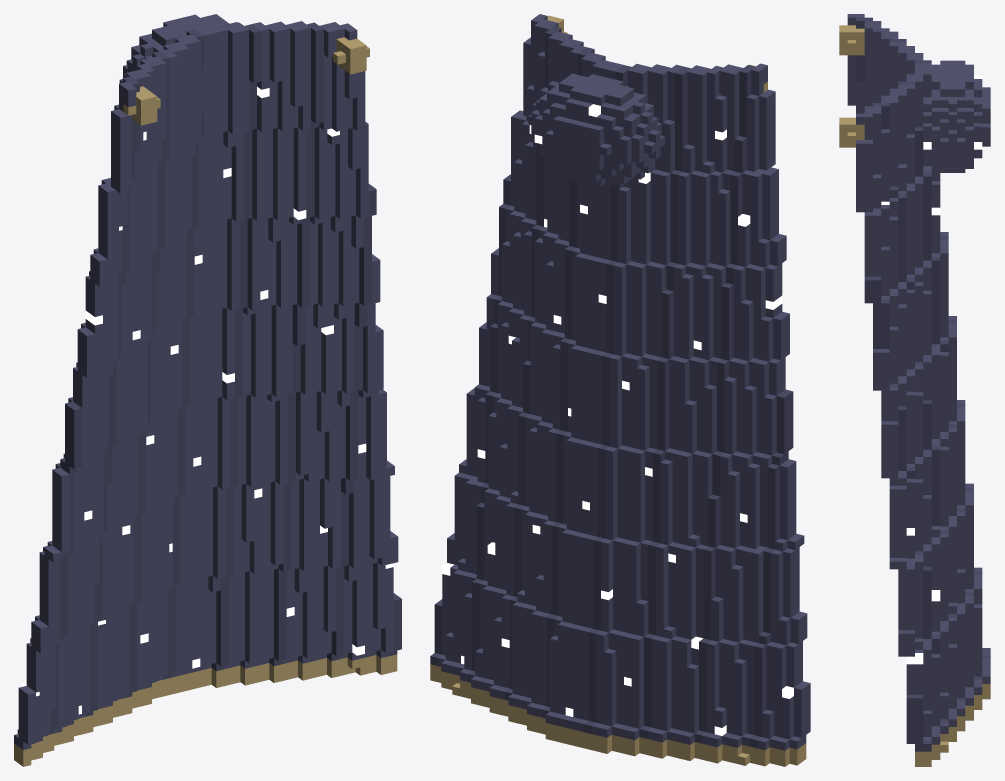
Rendered from mystic_rare_cloak.glb.
3 views of the same model, side by side, from view 1: azimuth 30°, elevation 25°; view 2: azimuth 150°, elevation 25°; view 3: azimuth 270°, elevation 25° (orthographic). The views are drawn at different scales.
Visible parts, largest first — view 1: mystic_rare_cloak; view 2: mystic_rare_cloak; view 3: mystic_rare_cloak.
Part boxes in pixels (x1=…): mystic_rare_cloak: x1=14, y1=14, x2=401, y2=766; mystic_rare_cloak: x1=430, y1=14, x2=810, y2=766; mystic_rare_cloak: x1=839, y1=14, x2=990, y2=766.
Bounding box in the file's own units: 0.564 × 0.972 × 0.216.
